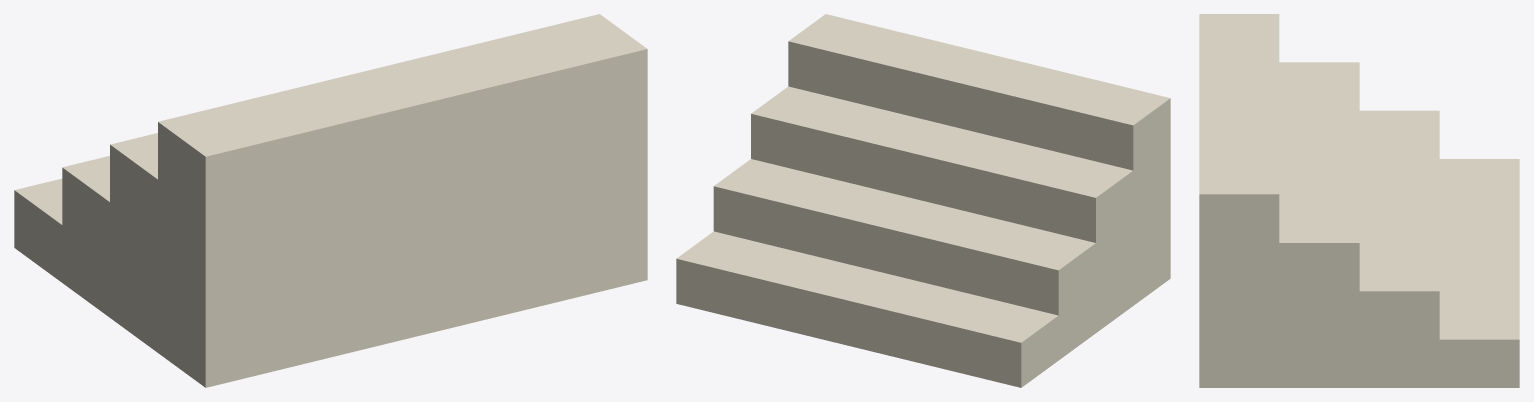
The model's file is stairs-straight-1m.glb.
The picture shows the model from 3 angles, left to right: view 1: azimuth 30°, elevation 25°; view 2: azimuth 150°, elevation 25°; view 3: azimuth 270°, elevation 25°; orthographic projection. The views are drawn at different scales.
Visible parts, largest first — view 1: stairs-straight-1m; view 2: stairs-straight-1m; view 3: stairs-straight-1m.
Boxes of the visible parts, x1,y1,x2,y2 form: stairs-straight-1m: (14, 14, 647, 387); stairs-straight-1m: (676, 14, 1170, 387); stairs-straight-1m: (1199, 14, 1519, 387).
Size of the model in its own units: 2 by 1 by 1.5.
